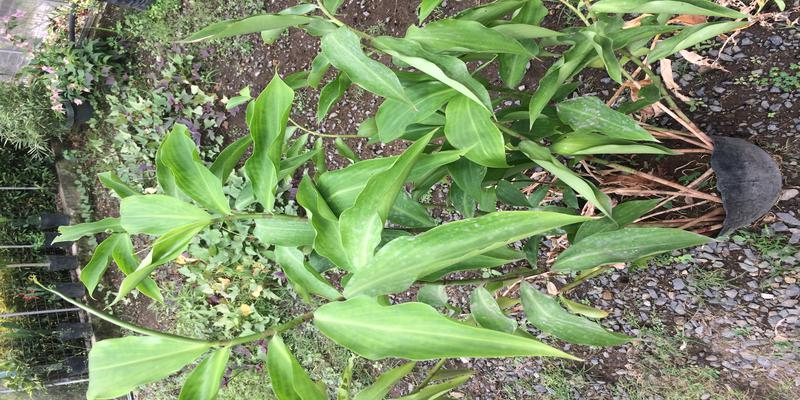Insulin: (266, 154, 732, 367)
